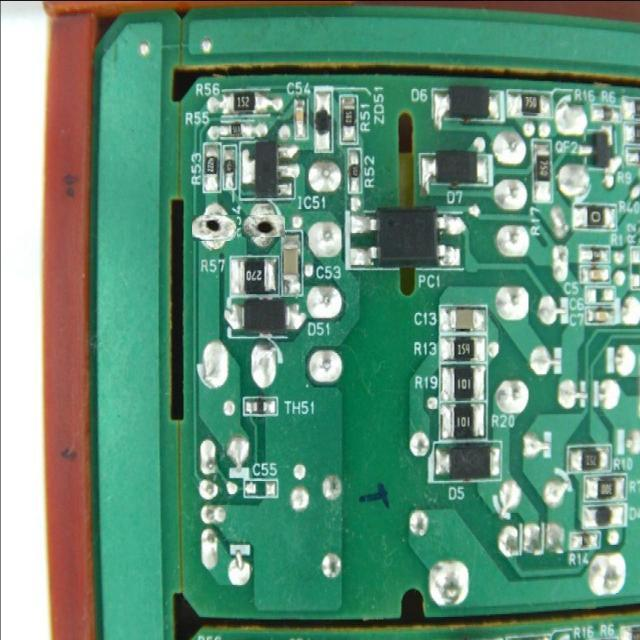damged: (196, 210, 232, 246), (246, 209, 280, 243)
